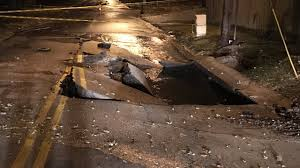roadCrash: (67, 42, 175, 100)
